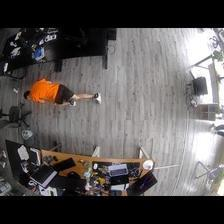fall: (23, 77, 102, 108)
